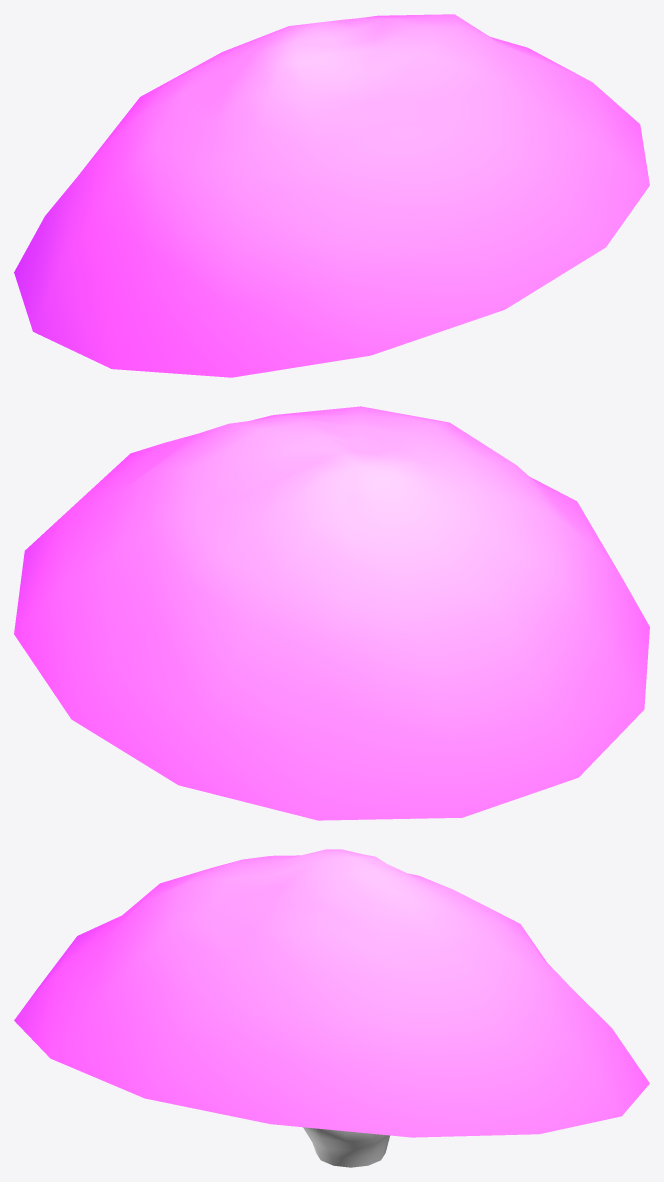
Rendered from mushroom_2.glb.
3 renders of one model, top to bottom at view 1: azimuth 30°, elevation 25°; view 2: azimuth 150°, elevation 25°; view 3: azimuth 270°, elevation 25°, orthographic. The views are drawn at different scales.
Parts seen in each view (by area): view 1: geo1; view 2: geo1; view 3: geo1.
Part boxes in pixels (box(x1,y1,x2,y2)): geo1: box(14, 14, 649, 377); geo1: box(14, 406, 649, 820); geo1: box(14, 849, 649, 1167).
Bounding box in the file's own units: 0.3808 × 0.1964 × 0.3933.
